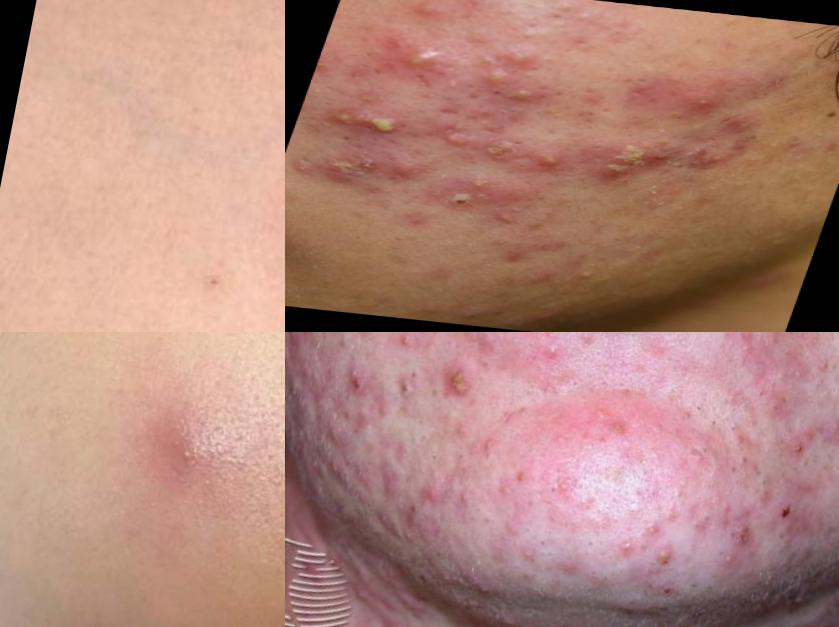blackhead: (676, 501, 725, 542), (610, 491, 656, 527), (746, 461, 779, 493), (808, 347, 839, 380), (717, 454, 750, 484), (730, 447, 761, 472), (706, 414, 727, 438), (687, 399, 710, 420), (581, 532, 604, 553), (727, 420, 747, 439), (827, 333, 839, 360)
cystic: (422, 445, 454, 472)
keloid: (305, 436, 390, 509), (343, 583, 422, 627), (338, 528, 395, 587), (286, 370, 324, 438)
papular: (139, 408, 233, 500), (578, 396, 643, 453), (666, 84, 749, 127), (386, 1, 486, 36), (534, 462, 590, 512), (750, 372, 805, 421), (455, 564, 514, 606), (412, 475, 459, 515), (728, 510, 767, 550), (391, 372, 434, 408), (377, 157, 423, 190), (711, 539, 747, 577), (449, 479, 484, 515), (515, 540, 549, 574), (488, 475, 524, 507), (471, 432, 505, 463), (783, 431, 814, 464), (823, 413, 839, 447), (829, 489, 839, 542)
purulent: (436, 357, 485, 406), (559, 266, 615, 298), (647, 538, 685, 571), (538, 339, 575, 371), (612, 531, 649, 563), (387, 333, 428, 358), (408, 51, 444, 73), (466, 173, 500, 194), (505, 51, 544, 69), (509, 92, 545, 111), (485, 71, 513, 95), (472, 333, 521, 346)
sebo-crystan-conglo: (580, 133, 681, 191), (312, 106, 410, 144), (460, 140, 563, 175), (303, 151, 367, 192)
whitehead: (663, 430, 724, 490)
